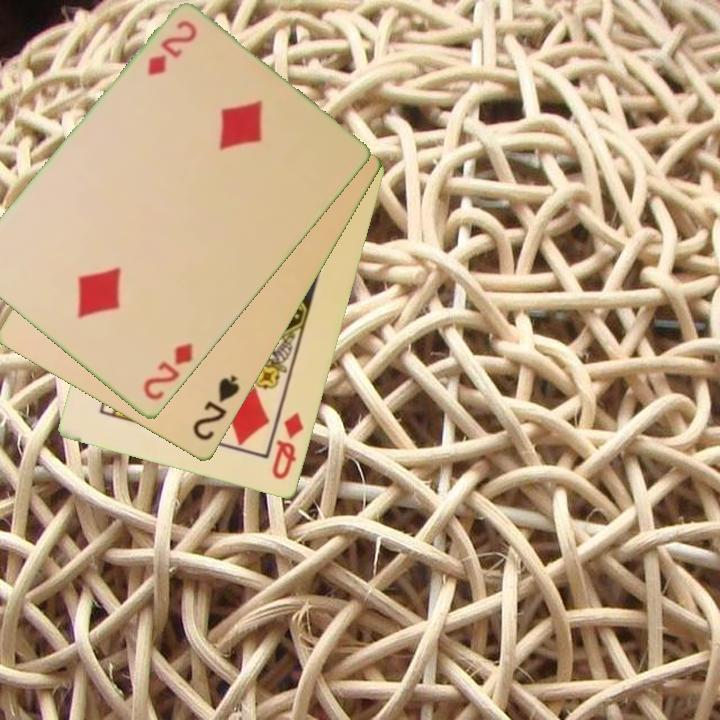2d: (139, 340, 196, 404), (144, 17, 200, 80)
2s: (189, 372, 243, 444)
Qd: (269, 409, 307, 483)
